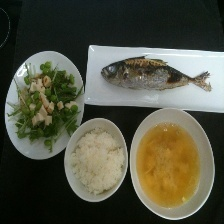rice: (71, 126, 125, 199)
